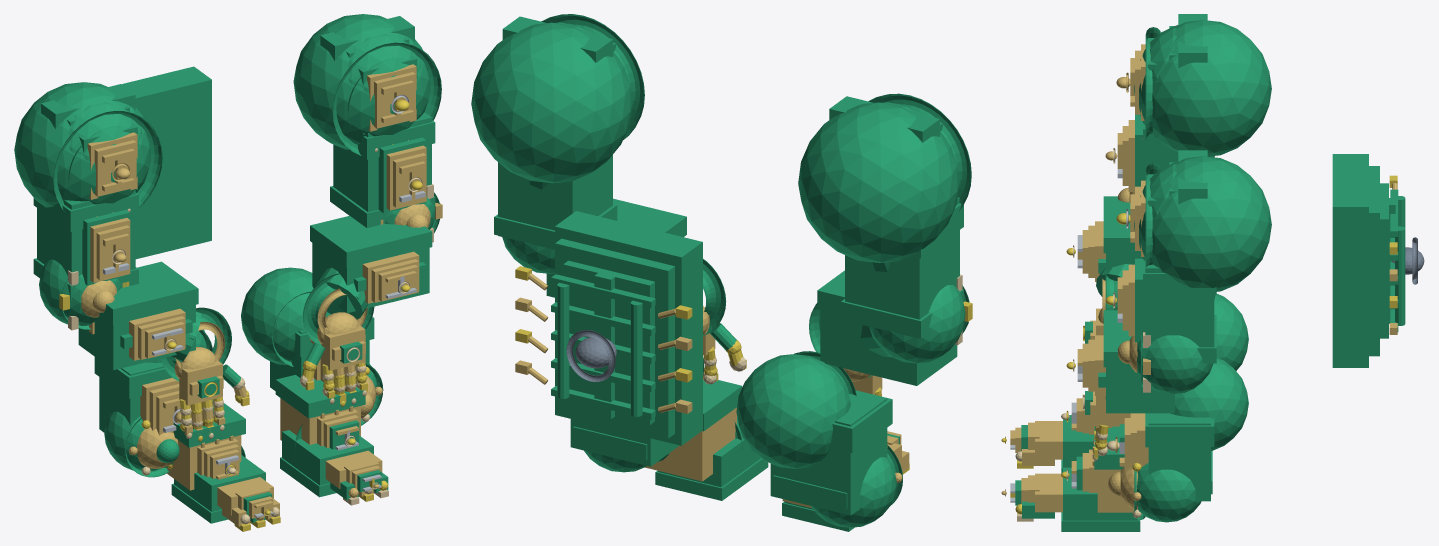
File: Royal_Green_Token_Folding_Limbs.glb
The picture shows the model from 3 angles, left to right: view 1: azimuth 30°, elevation 25°; view 2: azimuth 150°, elevation 25°; view 3: azimuth 270°, elevation 25°; orthographic projection. The views are drawn at different scales.
Parts seen in each view (by area): view 1: limb_arm_L_shoulder, limb_arm_R_shoulder, limb_arm_L_elbow, limb_leg_R_hip, limb_back, limb_arm_R_elbow, limb_leg_L_hip, limb_leg_L_knee, limb_leg_R_ankle, limb_leg_L_ankle, limb_leg_R_knee, limb_arm_R_wrist (+1 smaller); view 2: limb_back, limb_arm_L_shoulder, limb_arm_R_shoulder, limb_leg_L_hip, limb_arm_L_elbow, limb_leg_R_knee, limb_leg_R_hip, limb_arm_R_elbow, limb_leg_L_knee, limb_leg_R_ankle, limb_arm_R_wrist, limb_leg_L_ankle (+1 smaller); view 3: limb_arm_R_shoulder, limb_arm_L_shoulder, limb_back, limb_leg_R_hip, limb_arm_R_elbow, limb_leg_R_knee, limb_leg_R_ankle, limb_arm_L_elbow, limb_leg_L_ankle, limb_leg_L_hip, limb_leg_L_knee, limb_arm_L_wrist.
Part boxes in pixels (x1,y1,x2,y2): limb_arm_L_shoulder: (14, 82, 162, 286); limb_arm_R_shoulder: (293, 14, 441, 213); limb_arm_L_elbow: (33, 258, 201, 369); limb_leg_R_hip: (241, 267, 374, 418); limb_back: (121, 66, 211, 259); limb_arm_R_elbow: (310, 186, 442, 319); limb_leg_L_hip: (94, 329, 249, 447); limb_leg_L_knee: (104, 411, 241, 490); limb_leg_R_ankle: (280, 414, 388, 505); limb_leg_L_ankle: (141, 446, 280, 531); limb_leg_R_knee: (280, 364, 383, 450); limb_arm_R_wrist: (302, 273, 374, 345); limb_back: (515, 211, 702, 445); limb_arm_L_shoulder: (798, 93, 971, 338); limb_arm_R_shoulder: (471, 14, 644, 249); limb_leg_L_hip: (736, 351, 892, 515); limb_arm_L_elbow: (817, 270, 972, 385); limb_leg_R_knee: (573, 407, 736, 481); limb_leg_R_hip: (570, 315, 746, 466); limb_arm_R_elbow: (494, 198, 686, 297); limb_leg_L_knee: (773, 445, 902, 527); limb_leg_R_ankle: (655, 416, 768, 500); limb_arm_R_wrist: (703, 259, 726, 335); limb_leg_L_ankle: (782, 431, 909, 531); limb_arm_R_shoulder: (1105, 150, 1271, 363); limb_arm_L_shoulder: (1105, 14, 1271, 191); limb_back: (1332, 154, 1424, 367); limb_leg_R_hip: (1083, 357, 1248, 501); limb_arm_R_elbow: (1066, 310, 1216, 413); limb_leg_R_knee: (1061, 446, 1212, 522); limb_leg_R_ankle: (1001, 468, 1141, 531); limb_arm_L_elbow: (1066, 187, 1142, 296); limb_leg_L_ankle: (1001, 415, 1094, 473); limb_leg_L_hip: (1083, 294, 1248, 370); limb_leg_L_knee: (1061, 394, 1130, 434); limb_arm_L_wrist: (1098, 271, 1117, 323).
Size of the model in its own units: 0.7 by 0.667 by 0.6432.
